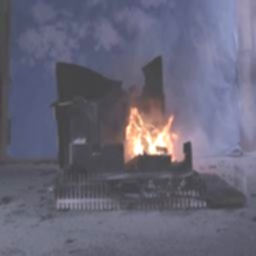fire: (114, 100, 179, 161)
